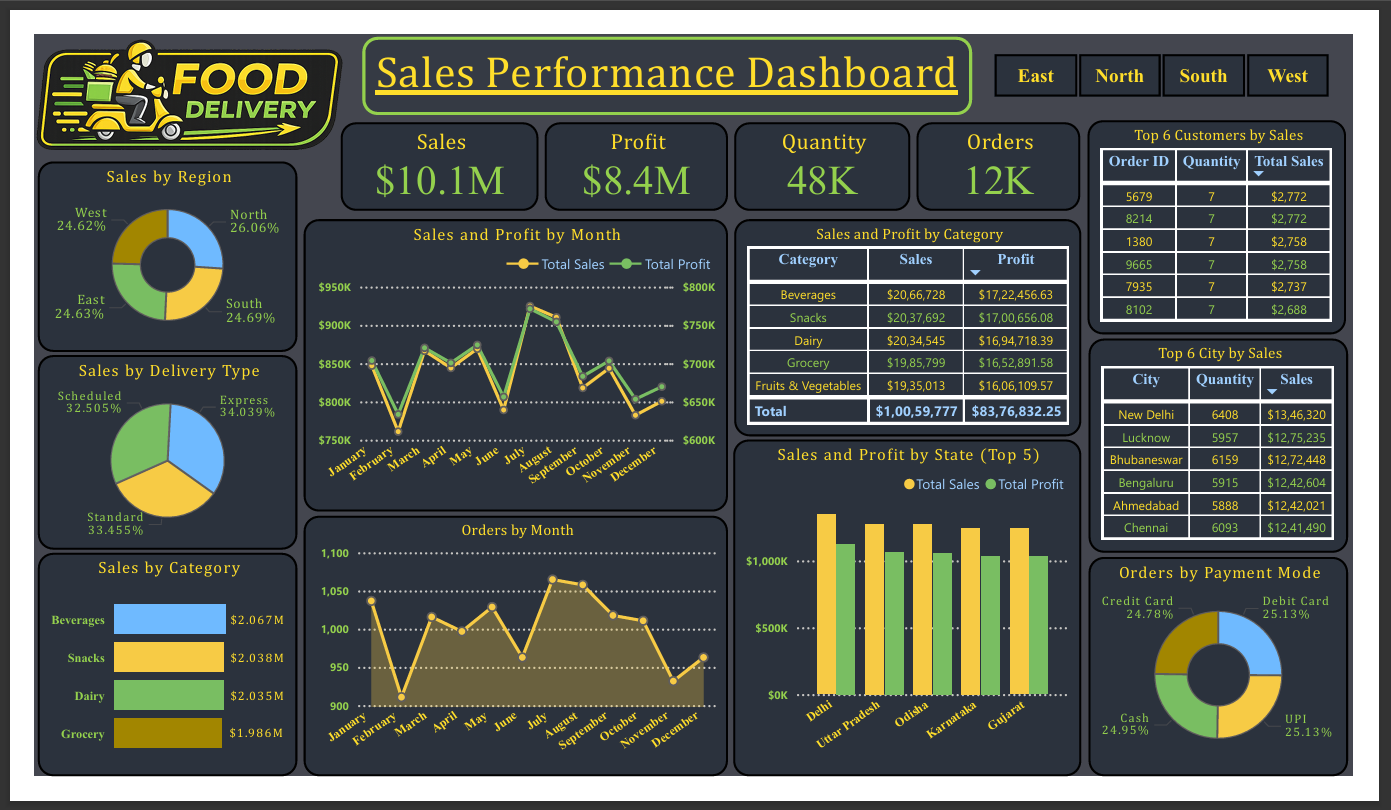

The dashboard page shown, as its layout file describes it:
{"tool":"powerbi","page":{"name":"Page 1","canvas":[1280,720],"ordinal":0},"visuals":[{"type":"card","title":"Sales","fields":{"Values":["Sheet1.Total_Sales"]},"box":[297,84.8,192.4,86.4],"z":0},{"type":"card","title":"Profit","fields":{"Values":["Sheet1.Total_Profit"]},"box":[495.5,84.8,177.3,86.4],"z":1000},{"type":"card","title":"Quantity","fields":{"Values":["Sum(Sheet1.Quantity)"]},"box":[678.8,84.8,171.2,86.4],"z":2000},{"type":"card","title":"Orders","fields":{"Values":["CountNonNull(Sheet1.Order ID)"]},"box":[856.1,84.8,159.1,86.4],"z":3000},{"type":"lineChart","title":"Sales and Profit by Month","fields":{"Y":["Sheet1.Total_Sales"],"Y2":["Sheet1.Total_Profit"],"Category":["Sheet1.Order Date.Variation.Date Hierarchy.Month"]},"box":[260.6,178.8,412.1,284],"z":4000},{"type":"donutChart","title":"Sales by Region","fields":{"Category":["Sheet1.Region"],"Y":["Sheet1.Total_Sales"]},"box":[3.1,123.4,251.6,184.4],"z":5000},{"type":"pieChart","title":"Sales by Delivery Type","fields":{"Y":["Sheet1.Total_Sales"],"Category":["Sheet1.Delivery Type"]},"box":[3.1,310.9,251.6,189.1],"z":6000},{"type":"donutChart","title":"Orders by Payment Mode","fields":{"Category":["Sheet1.Payment Mode"],"Y":["CountNonNull(Sheet1.Order ID)"]},"box":[1023.4,507.5,251.6,212.5],"z":7000},{"type":"slicer","fields":{"Values":["Sheet1.Region"]},"box":[905.7,12.1,374.2,54.5],"z":8000},{"type":"areaChart","title":"Orders by Month","fields":{"Category":["Sheet1.Order Date.Variation.Date Hierarchy.Quarter","Sheet1.Order Date.Variation.Date Hierarchy.Month"],"Y":["CountNonNull(Sheet1.Order ID)"]},"box":[260.9,466.9,412.5,253.1],"z":9000},{"type":"barChart","title":"Sales by Category","fields":{"Category":["Sheet1.Category"],"Y":["Sheet1.Total_Sales"]},"box":[3.1,502.8,251.6,217.2],"z":10000},{"type":"tableEx","title":"Sales and Profit by Category","fields":{"Values":["Sheet1.Category","Sheet1.Total_Sales","Sheet1.Total_Profit"]},"box":[678.8,178.8,337,211],"z":11000},{"type":"tableEx","title":"Top 6 Customers by Sales ","fields":{"Values":["Sheet1.Order ID","Sum(Sheet1.Quantity)","Sheet1.Total_Sales"]},"box":[1022.4,83.3,251,207.6],"z":12000},{"type":"clusteredColumnChart","title":"Sales and Profit by State (Top 5)","fields":{"Category":["Sheet1.State"],"Y":["Sheet1.Total_Sales","Sheet1.Total_Profit"]},"box":[678.1,393.4,337.5,326.6],"z":13000},{"type":"tableEx","title":"Top 6 City by Sales","fields":{"Values":["Sheet1.City","Sum(Sheet1.Quantity)","Sheet1.Total_Sales"]},"box":[1023.4,295.3,251.6,207.8],"z":14000},{"type":"image","box":[0,0,300,119.7],"z":15000},{"type":"textbox","box":[318.2,1.5,592,76],"z":16000}]}

Visuals, with their boxes on the page's 1280x720 design canvas (x1, y1, x2, y2). These are canvas units, not pixel positions in the 1391x810 screenshot, which may show the page scaled, cropped or inside an application window:
"Sales" card: BBox(297, 85, 489, 171)
"Profit" card: BBox(496, 85, 673, 171)
"Quantity" card: BBox(679, 85, 850, 171)
"Orders" card: BBox(856, 85, 1015, 171)
"Sales and Profit by Month" lineChart: BBox(261, 179, 673, 463)
"Sales by Region" donutChart: BBox(3, 123, 255, 308)
"Sales by Delivery Type" pieChart: BBox(3, 311, 255, 500)
"Orders by Payment Mode" donutChart: BBox(1023, 508, 1275, 720)
slicer - Sheet1.Region: BBox(906, 12, 1280, 67)
"Orders by Month" areaChart: BBox(261, 467, 673, 720)
"Sales by Category" barChart: BBox(3, 503, 255, 720)
"Sales and Profit by Category" tableEx: BBox(679, 179, 1016, 390)
"Top 6 Customers by Sales " tableEx: BBox(1022, 83, 1273, 291)
"Sales and Profit by State (Top 5)" clusteredColumnChart: BBox(678, 393, 1016, 720)
"Top 6 City by Sales" tableEx: BBox(1023, 295, 1275, 503)
image: BBox(0, 0, 300, 120)
textbox: BBox(318, 2, 910, 78)
